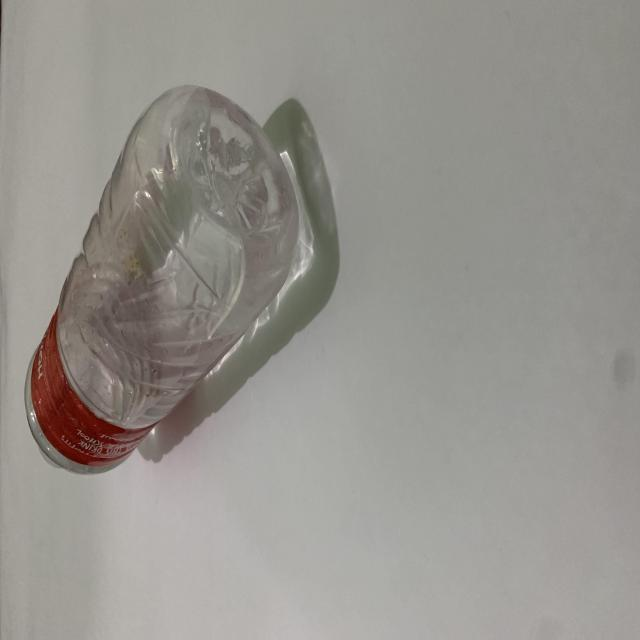bottle: (30, 73, 323, 484)
